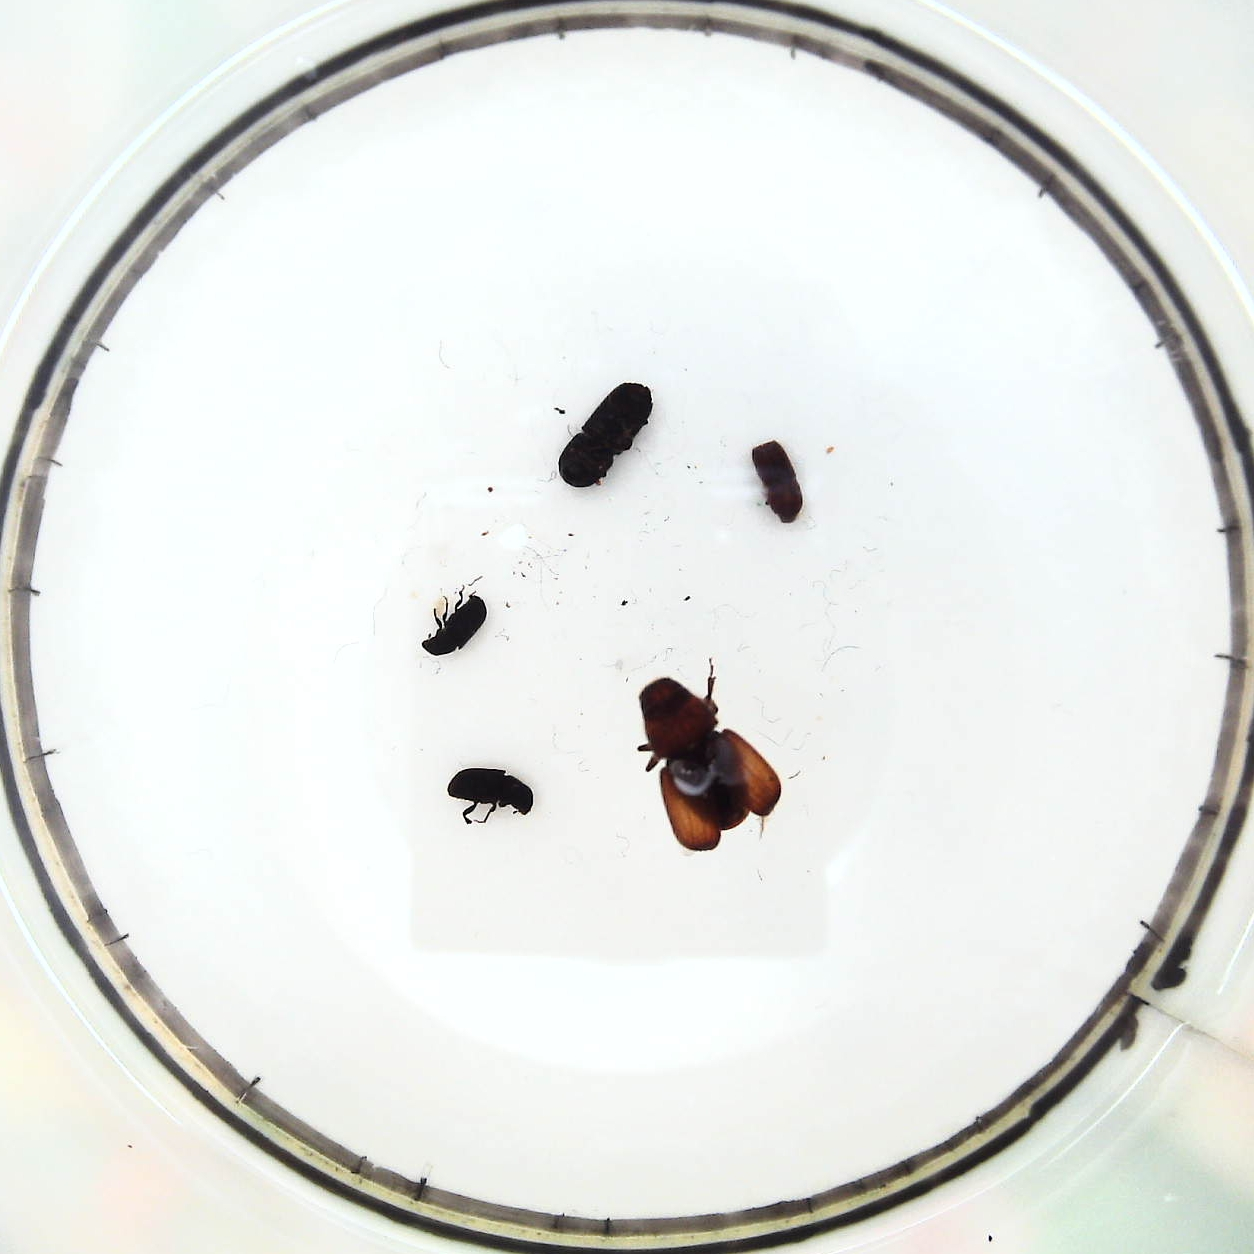Boerner: (560, 379, 655, 489)
Leconte: (638, 673, 781, 856)
Linnaeus: (753, 438, 805, 525)
armandi: (446, 761, 533, 823)
coleoptera: (427, 593, 490, 655)
